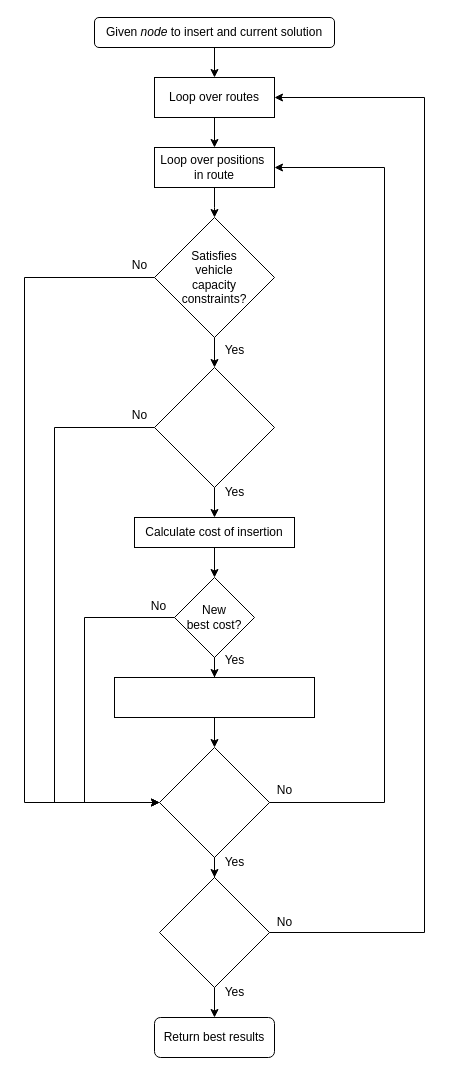
The diagram is 450 pixels wide and 1075 high, and some of its shapes have lost their labels. Here are the shapes that lost their labels. From the top down, the box of each, then its label:
(154, 366, 274, 488): Satisfies time window constraints?
(114, 676, 314, 718): Save best route index, cost and index of insertion
(158, 746, 270, 858): Finished loop on nodes?
(158, 876, 270, 988): Finished loop on routes?
